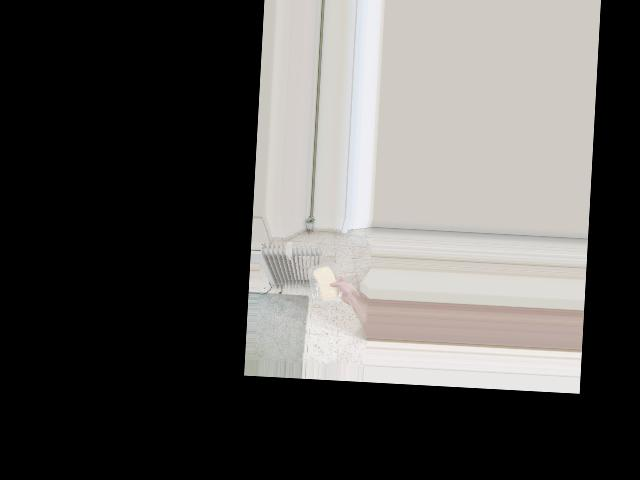cheese: (311, 262, 341, 304)
